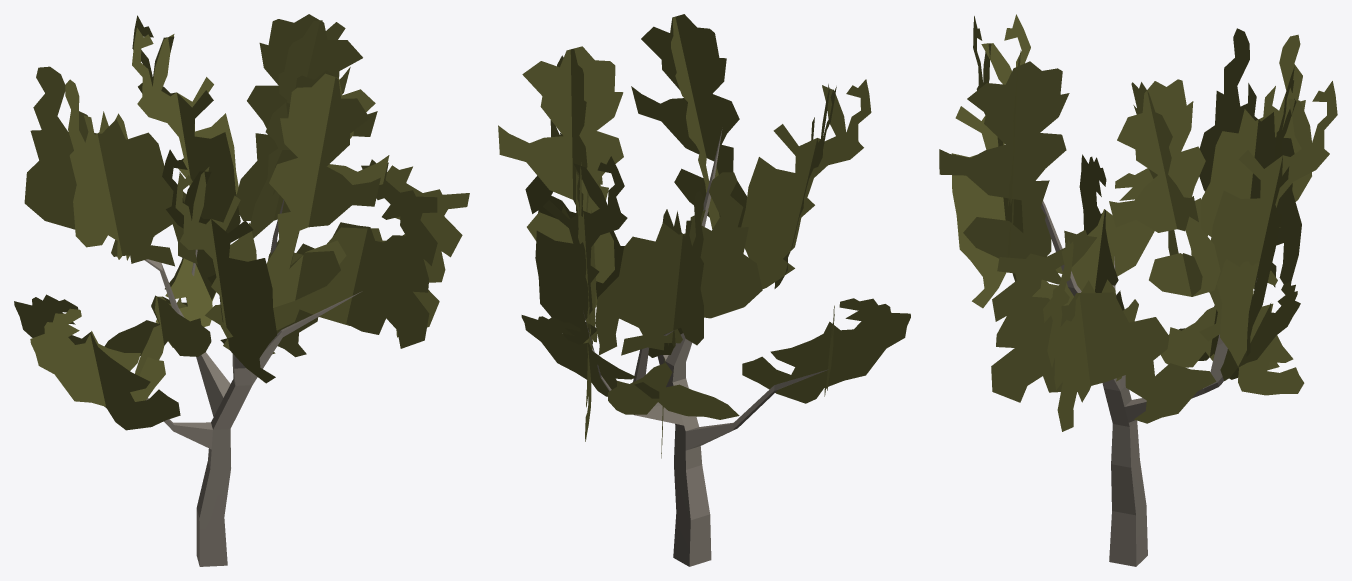
Rendered from Tree22.fbx.
The picture shows the model from 3 angles, left to right: view 1: azimuth 30°, elevation 25°; view 2: azimuth 150°, elevation 25°; view 3: azimuth 270°, elevation 25°; orthographic projection. The views are drawn at different scales.
Parts seen in each view (by area): view 1: Flat_half_tree.022; view 2: Flat_half_tree.022; view 3: Flat_half_tree.022.
Boxes of the visible parts, x1,y1,x2,y2 form: Flat_half_tree.022: (14, 14, 469, 566); Flat_half_tree.022: (498, 14, 910, 566); Flat_half_tree.022: (939, 14, 1337, 566).
Bounding box in the file's own units: 4.27 × 4.95 × 3.35.
